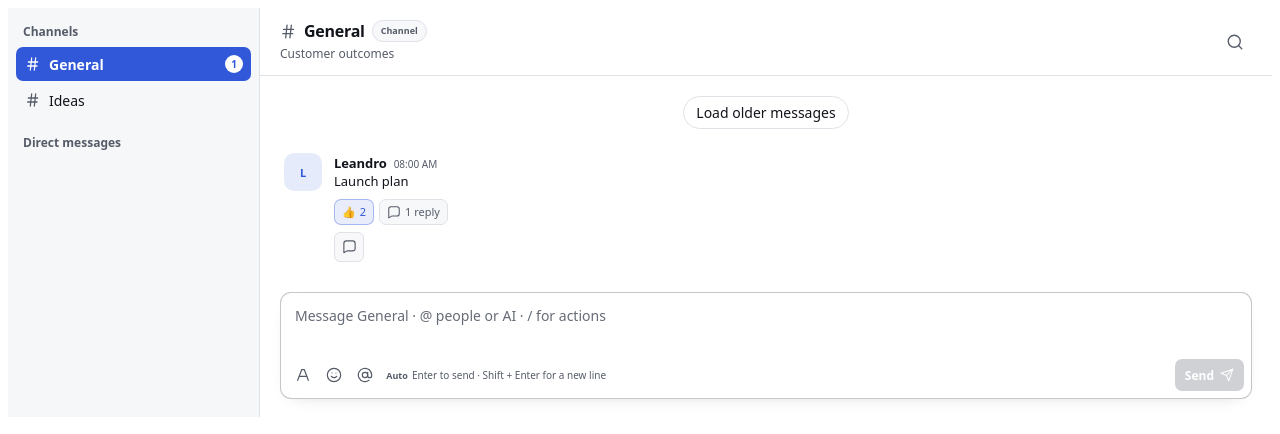
React 18 host compatibility › loads older room history on demand and hides the control at exhaustion
The width and height of the screenshot is (1280, 434).
What coordinates should you click on to do the following:
click the button "Load older messages"
I would click on:
 (766, 112)
Its box is top-left (683, 96), bottom-right (849, 129).
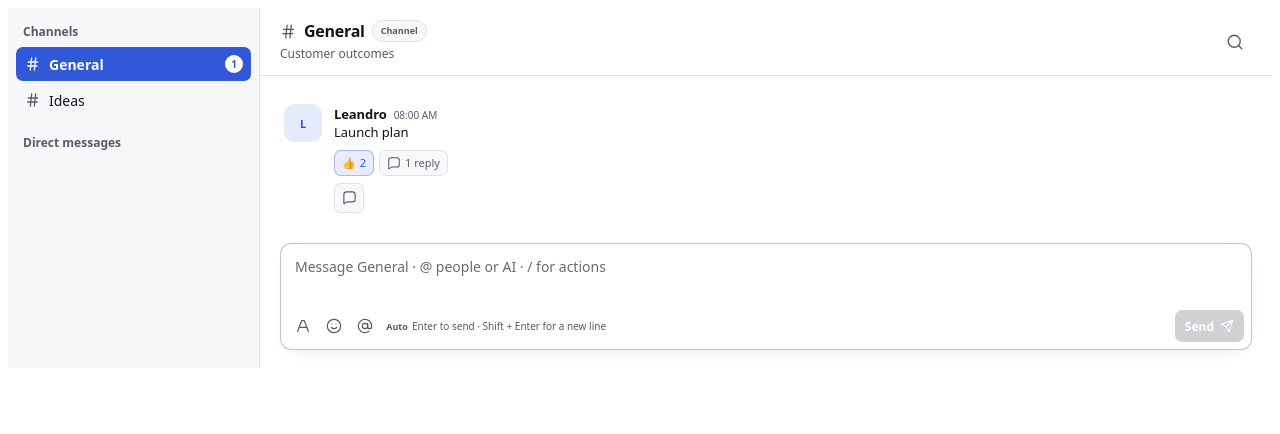
Expected: the button "Load older messages" is gone
